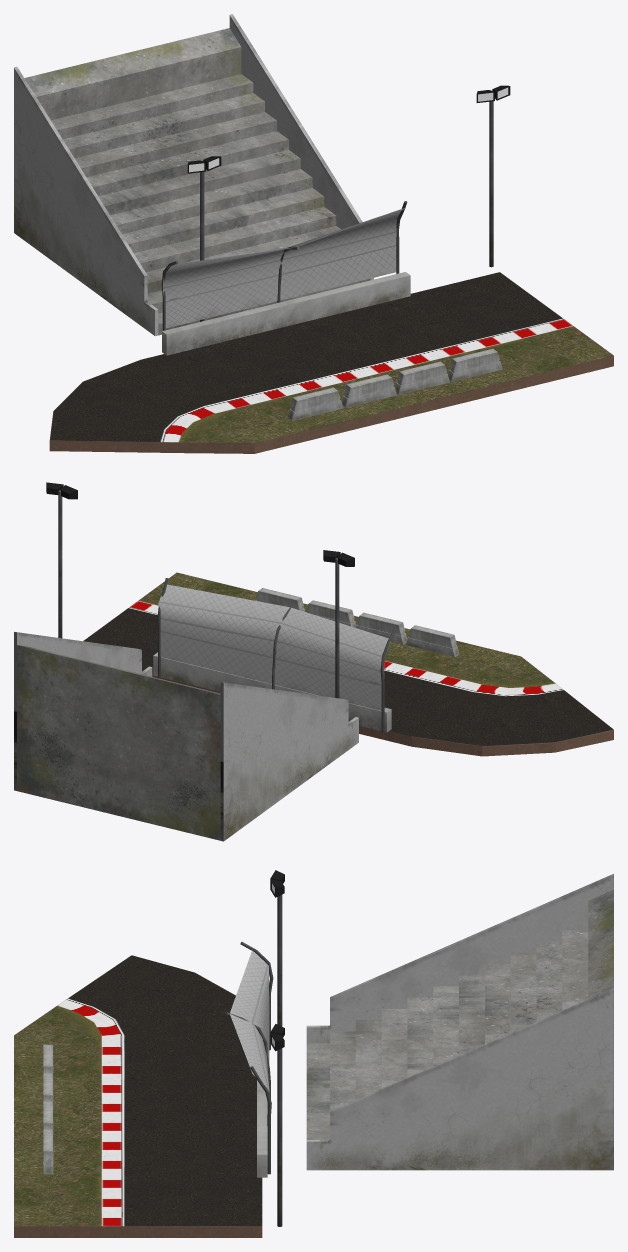
File: showcaseSmallCarRacingEnvironment.a8e00dcd.glb
3 views of the same model, one above another, from view 1: azimuth 30°, elevation 25°; view 2: azimuth 150°, elevation 25°; view 3: azimuth 270°, elevation 25° (orthographic). The views are drawn at different scales.
Visible parts, largest first — view 1: Ground, Seats, BarriesSeat_01, Fence, Audience_Barrier, BarriesSeat_02, Barrier_04, Barrier_03, Barrier_02, Barrier_01, LightPost_Pole_01; view 2: Seats, Ground, Fence, BarriesSeat_01, BarriesSeat_02, Audience_Barrier, LightPost_Pole_01 (×2), Barrier_04, Barrier_03, Barrier_02, Barrier_01; view 3: Ground, BarriesSeat_02, Seats, BarriesSeat_01, Fence, LightPost_Pole_01 (×2), Audience_Barrier, Barrier_01.
Boxes of the visible parts, x1,y1,x2,y2 form: Ground: (49, 272, 613, 453); Seats: (24, 28, 370, 335); BarriesSeat_01: (14, 66, 158, 336); Fence: (163, 207, 405, 328); Audience_Barrier: (162, 272, 410, 355); BarriesSeat_02: (229, 14, 373, 279); Barrier_04: (287, 387, 343, 420); Barrier_03: (342, 374, 396, 407); Barrier_02: (395, 361, 449, 394); Barrier_01: (448, 348, 502, 381); LightPost_Pole_01: (489, 101, 493, 267); Seats: (17, 645, 220, 840); Ground: (83, 572, 613, 756); Fence: (158, 584, 390, 710); BarriesSeat_01: (220, 682, 358, 841); BarriesSeat_02: (14, 631, 152, 790); Audience_Barrier: (153, 652, 391, 732); LightPost_Pole_01 (×2): (58, 490, 339, 698); Barrier_04: (406, 625, 459, 656); Barrier_03: (356, 612, 407, 644); Barrier_02: (306, 600, 356, 627); Barrier_01: (255, 588, 305, 611); Ground: (14, 955, 262, 1237); BarriesSeat_02: (306, 988, 613, 1170); Seats: (306, 890, 613, 1139); BarriesSeat_01: (306, 874, 613, 1043); Fence: (230, 950, 269, 1092); LightPost_Pole_01 (×2): (277, 895, 282, 1226); Audience_Barrier: (257, 1080, 267, 1177); Barrier_01: (43, 1129, 53, 1174).
Bounding box in the file's own units: 361 × 124 × 327.
3 materials, 3 textured.
